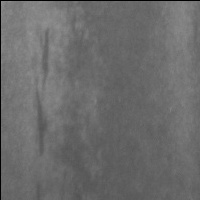inclusion: (32, 84, 58, 160), (36, 21, 54, 93)
